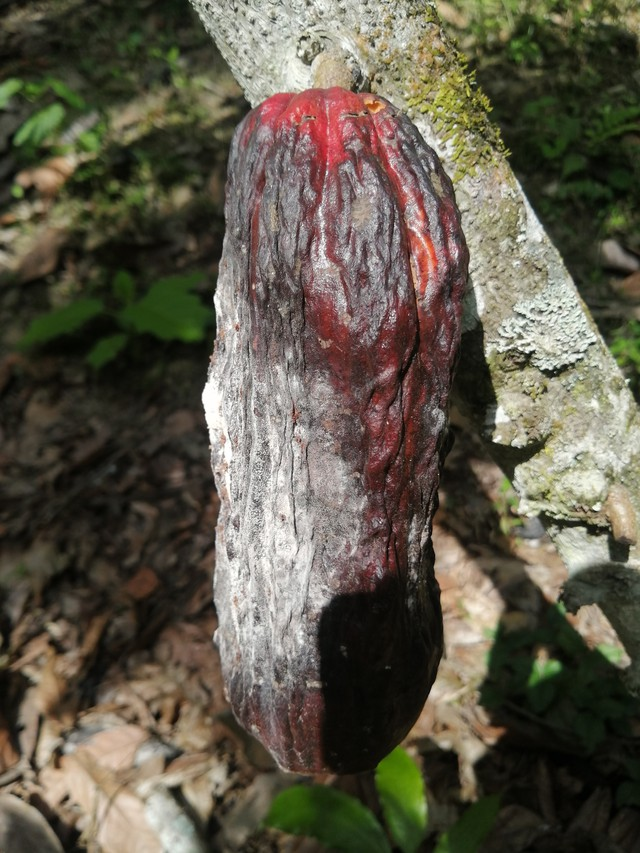moniliophthora roreri: (170, 84, 477, 794)
